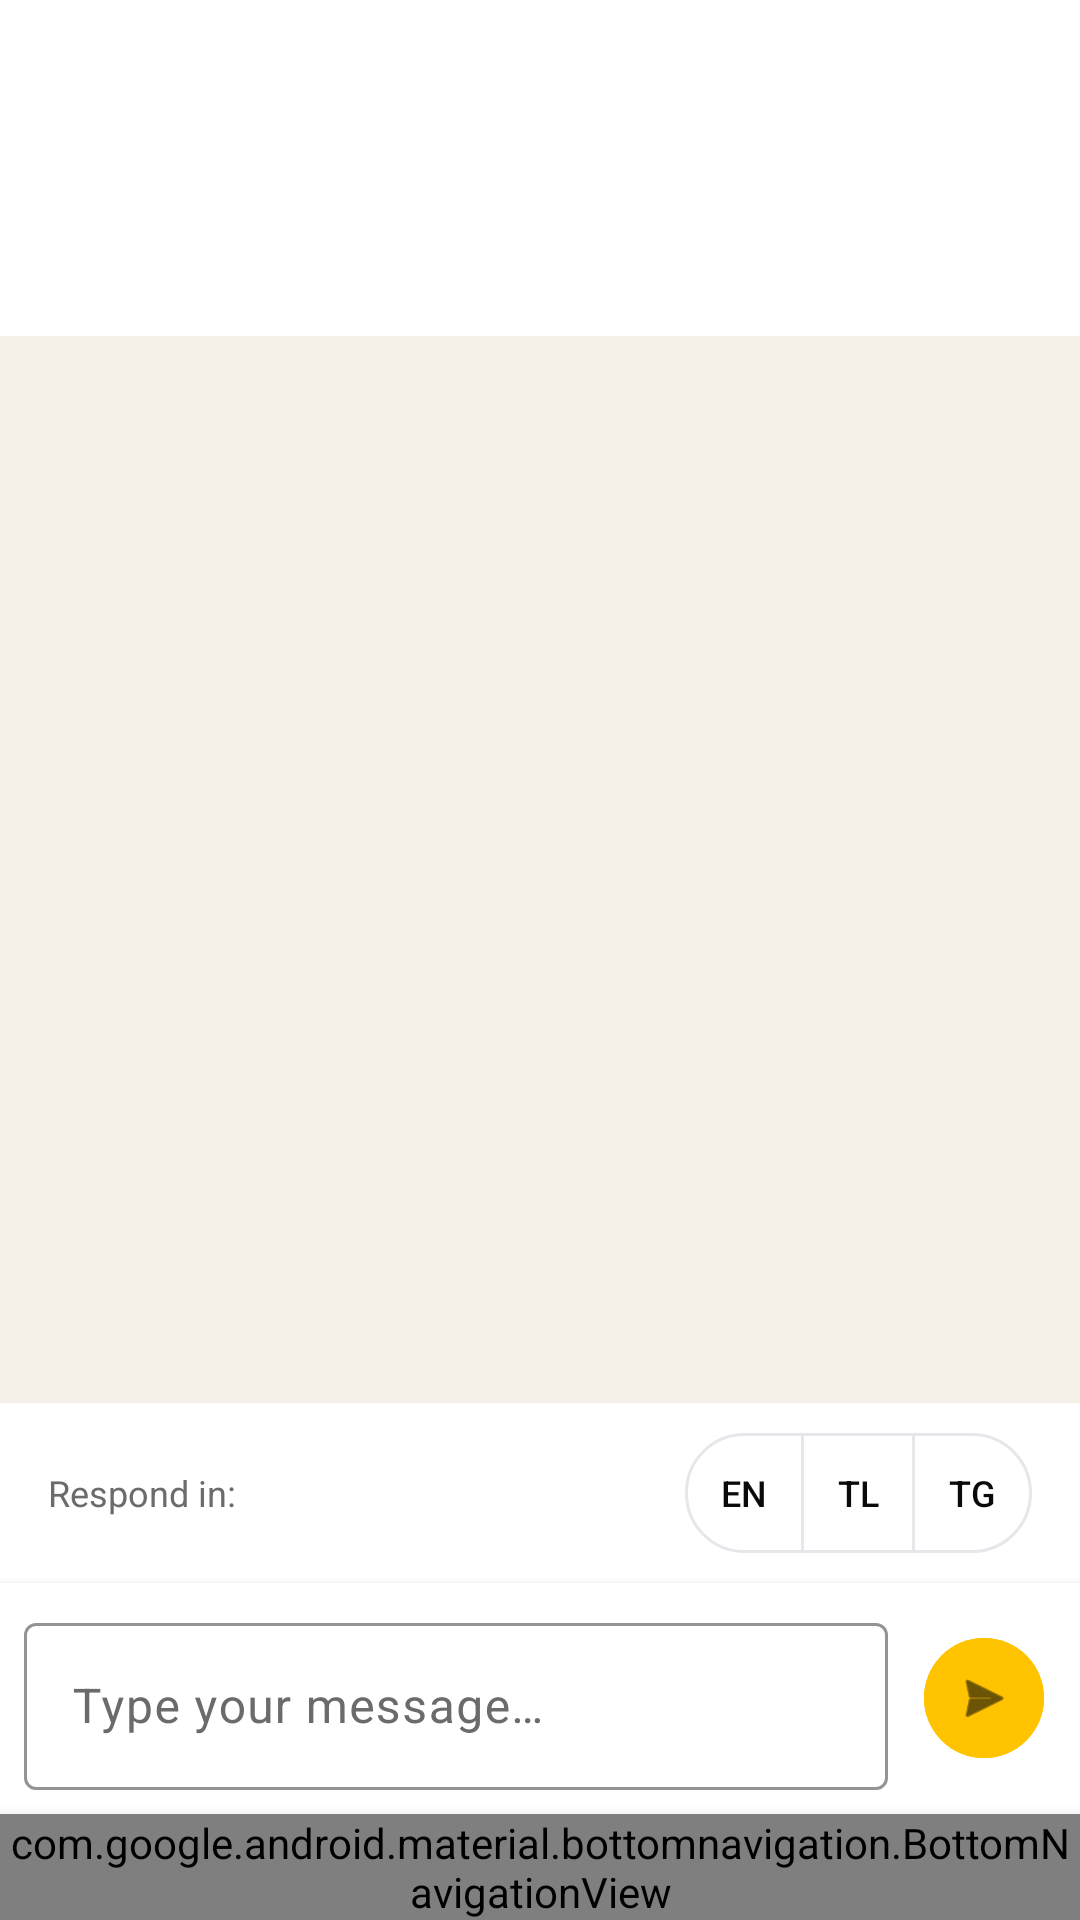

Icons on this 1080 x 1920 Android screen, each with the point to tap as point (x, y):
Send: point (984, 1698)
